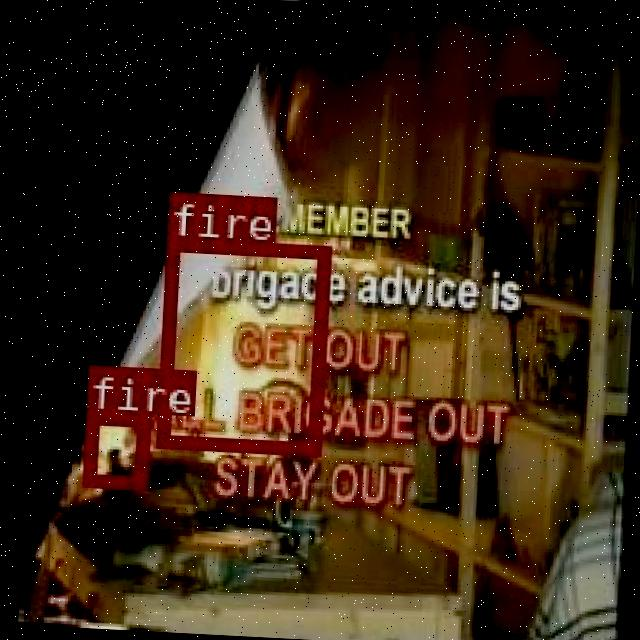fire: (154, 237, 328, 452), (80, 408, 147, 486)
